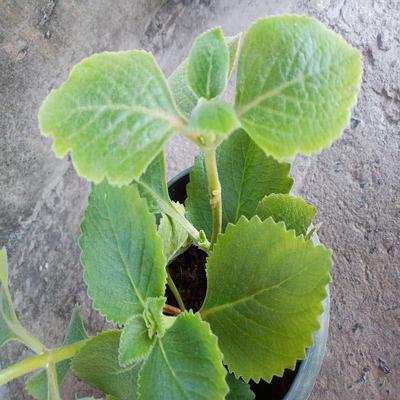Oregano: (61, 71, 349, 394)
